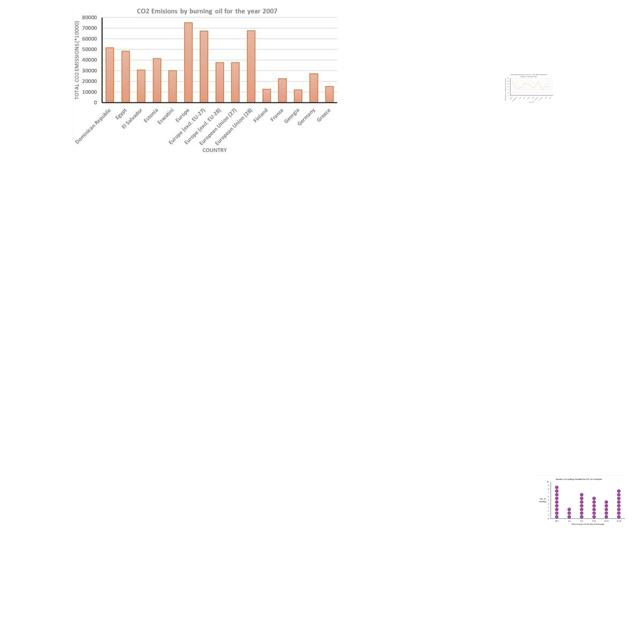Graph: (72, 4, 340, 154), (536, 475, 627, 528), (504, 73, 554, 103)
